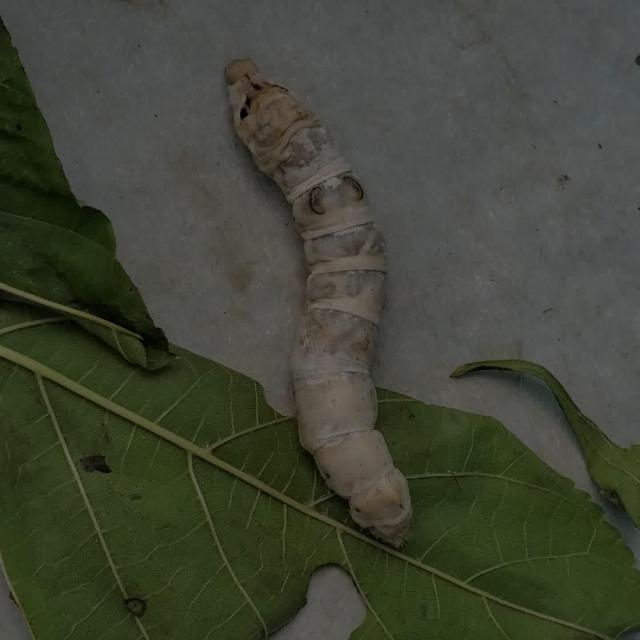Grasserie: (219, 52, 437, 562)
